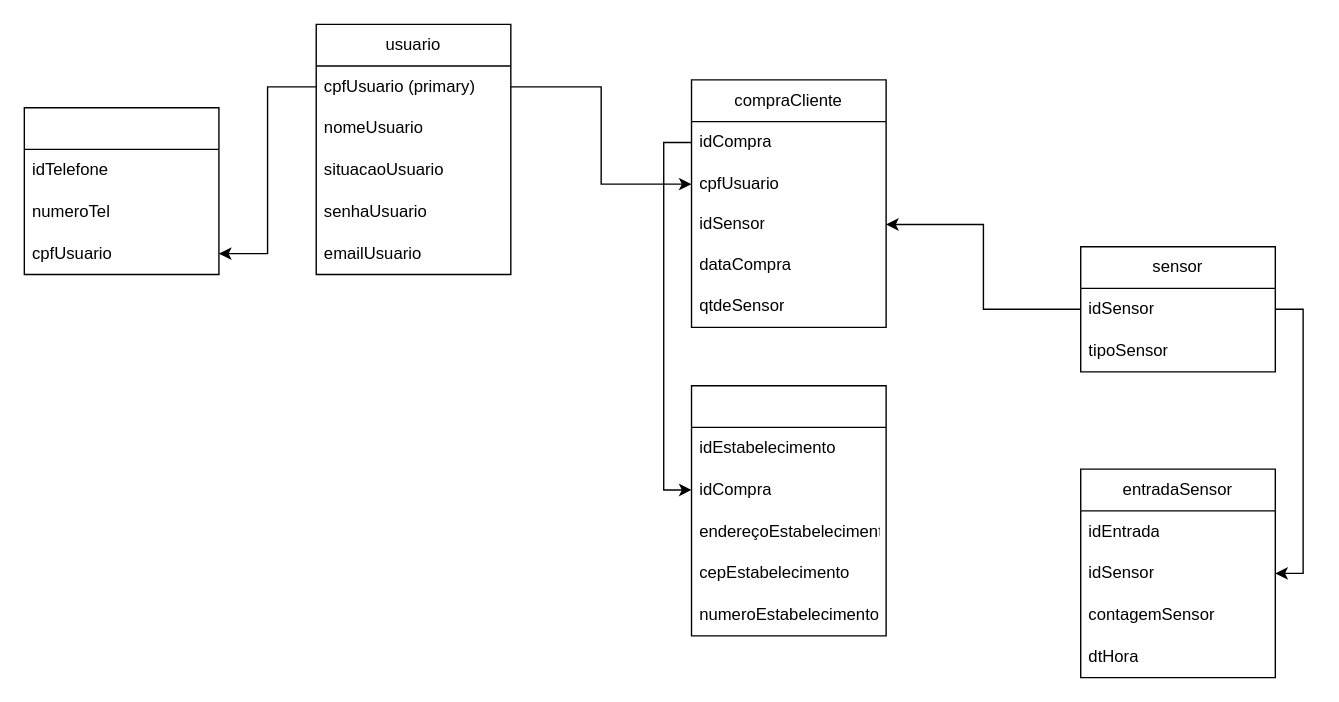
Some shapes in this 1339 by 702 pixel diagram are drawn without their labels. The shapes that lost their labels are listed below. From the top down, each one's box as (x1, y1, x2, y2) in pixels, then its label:
(23, 106, 219, 275): telefoneUsuario
(690, 384, 886, 636): estabelecimentoUser
